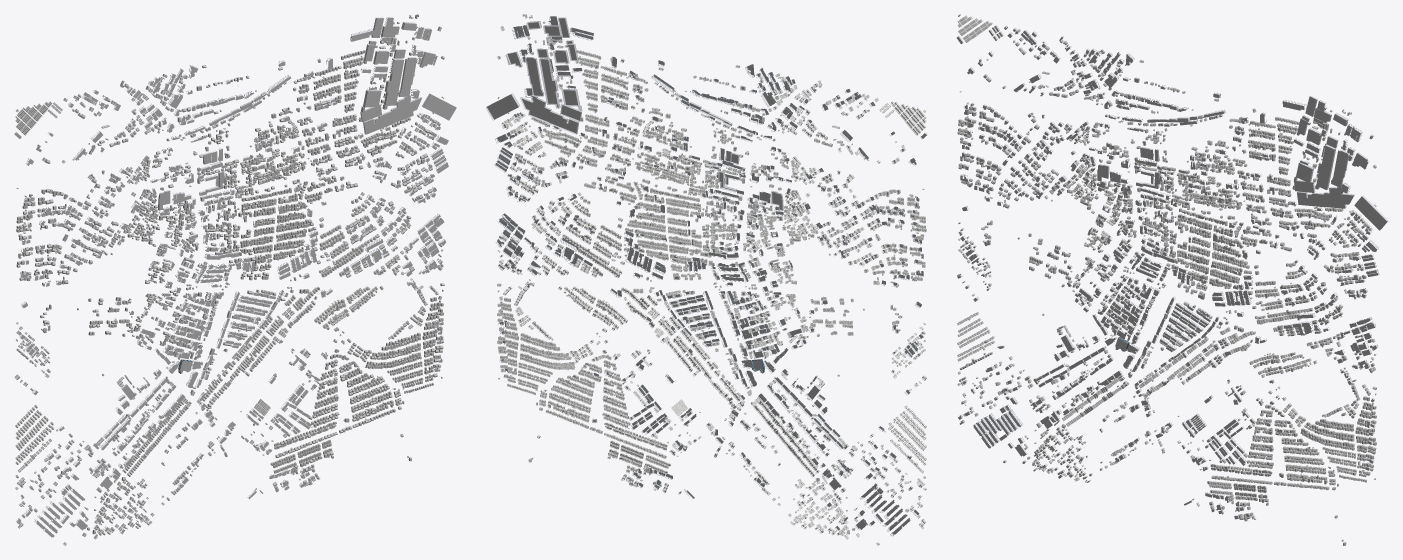
File: buildings_3_0.obj
3 renders of one model, left to right at view 1: azimuth 30°, elevation 25°; view 2: azimuth 150°, elevation 25°; view 3: azimuth 330°, elevation 25°, orthographic. The views are drawn at different scales.
Bounding box in the file's own units: 2070 × 2031 × 30.43.
6 materials, 6 textured.
